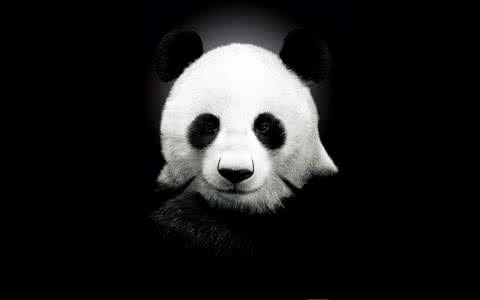panda: (140, 23, 354, 277)
